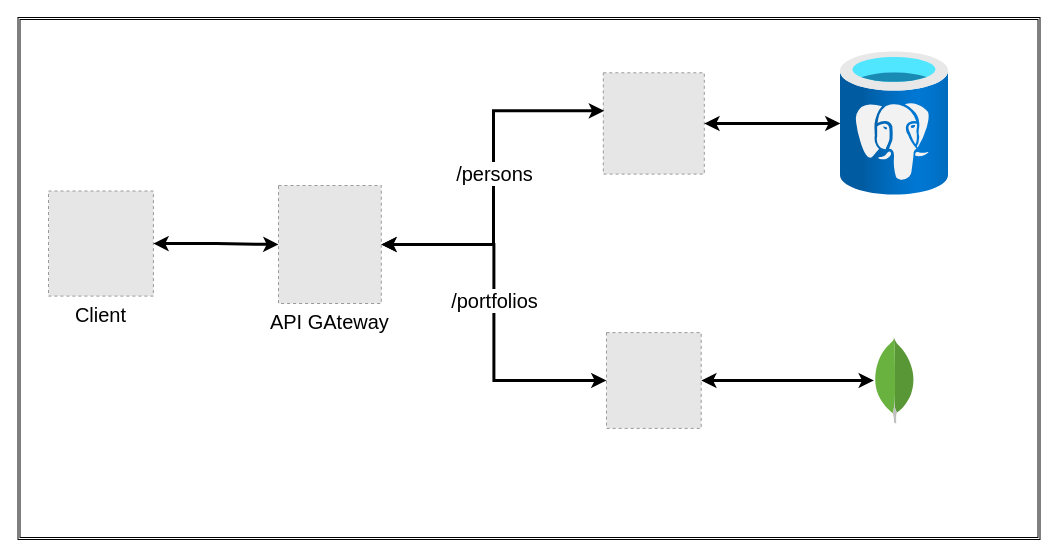
Some shapes in this 1057 by 557 pixel diagram are drawn without their labels. Grey dashed boxes stand in for pictures. The centre of each missing label's shape, as x and y in pixels:
MongoDB: pixel 894 380
PostgreSQL: pixel 894 123
